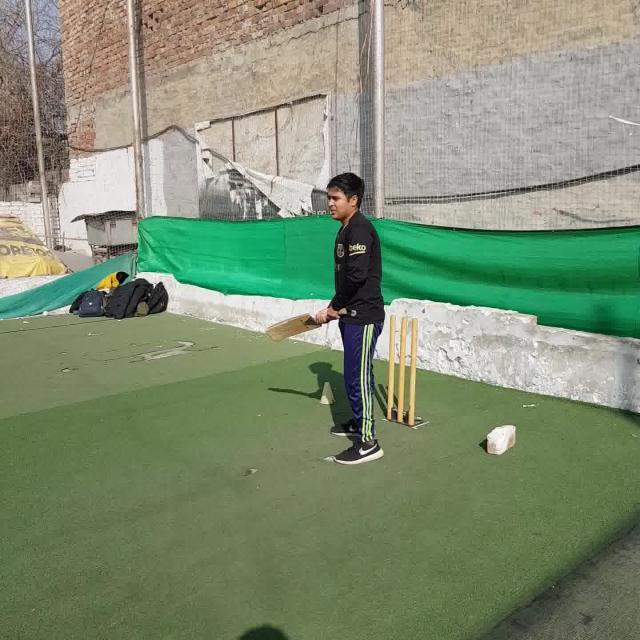ball: (43, 311, 48, 316)
bat: (266, 308, 348, 343)
